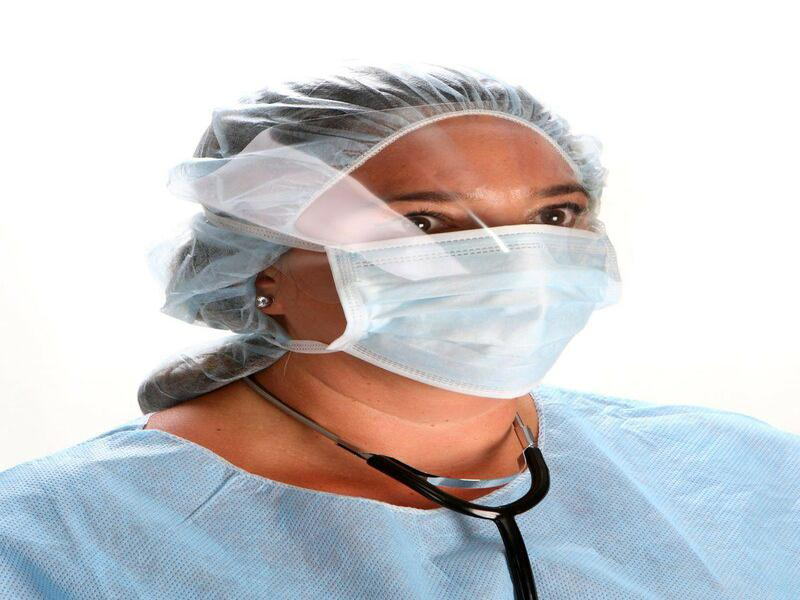with_mask: (206, 57, 615, 405)
